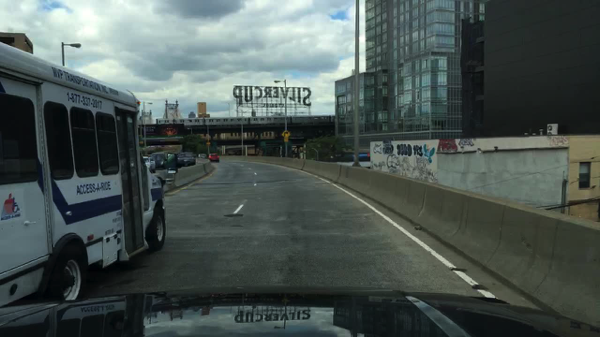bus: (0, 31, 167, 316)
car: (176, 151, 197, 167), (152, 151, 168, 168), (142, 156, 156, 172), (207, 152, 220, 162), (167, 153, 177, 164), (198, 153, 207, 160)
traffic sign: (282, 130, 291, 139), (206, 141, 211, 146), (283, 138, 288, 141)
